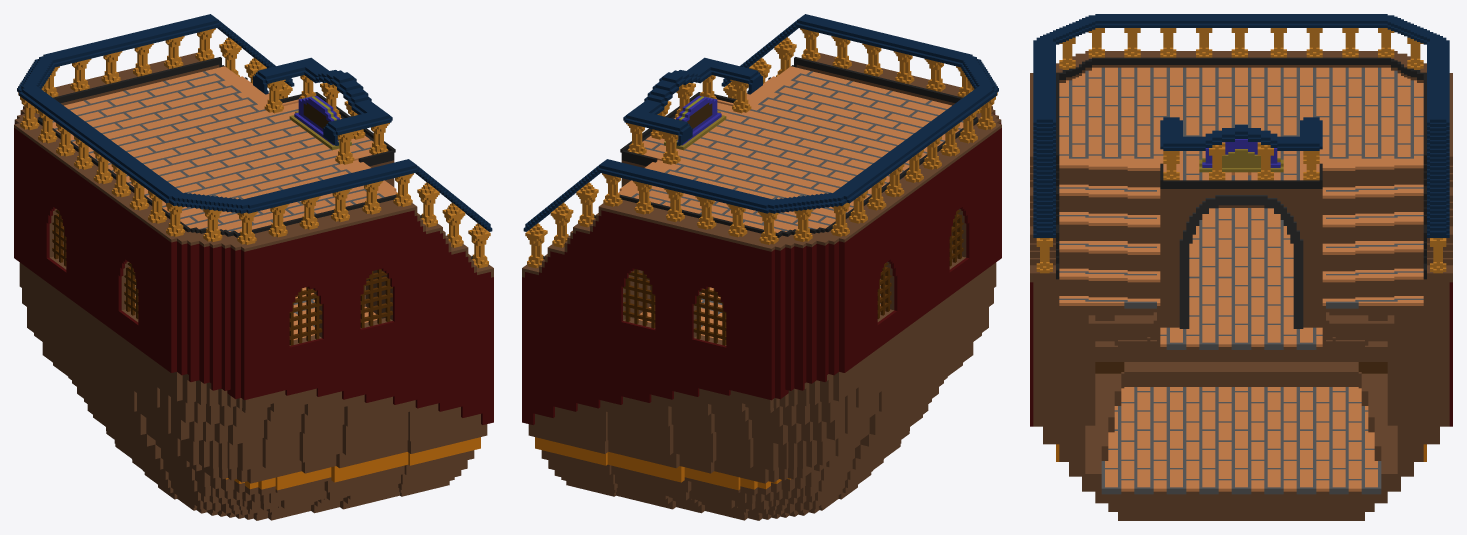
The model's file is ship-5.obj.
The picture shows the model from 3 angles, left to right: view 1: azimuth 30°, elevation 25°; view 2: azimuth 150°, elevation 25°; view 3: azimuth 270°, elevation 25°; orthographic projection.
Size of the model in its own units: 10.4 by 12.6 by 13.
1 material, 1 textured.
